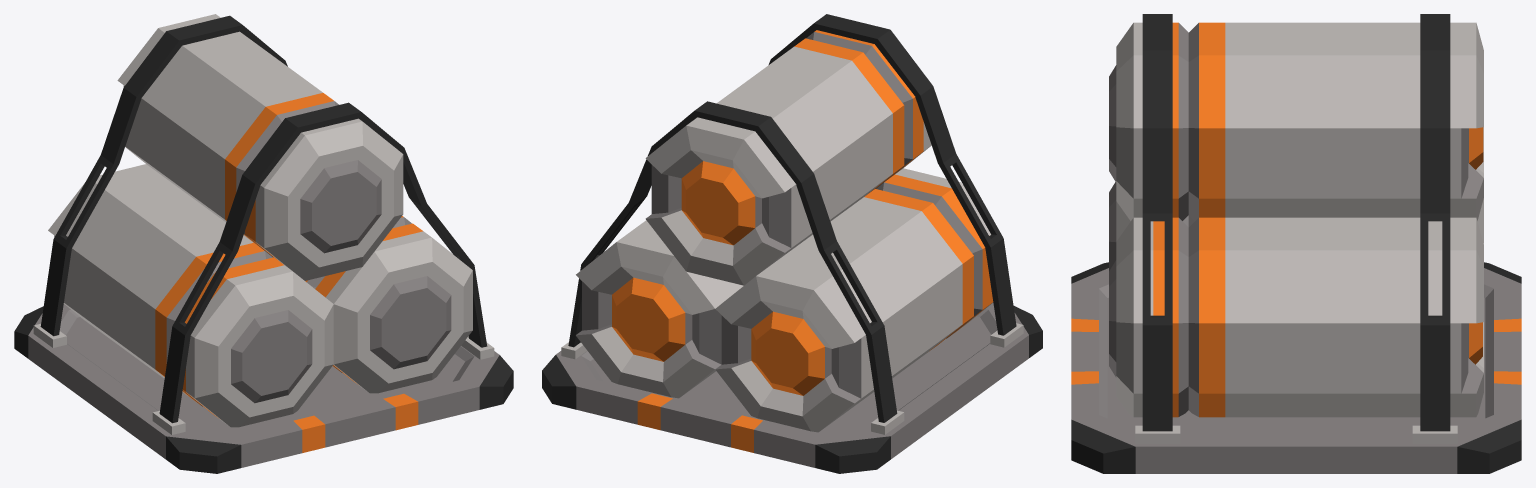
File: scifi_scifi-vials-three-pack.fbx
3 views of the same model, side by side, from view 1: azimuth 30°, elevation 25°; view 2: azimuth 150°, elevation 25°; view 3: azimuth 270°, elevation 25° (orthographic). The views are drawn at different scales.
Visible parts, largest first — view 1: scifi_scifi_vials_three_pack; view 2: scifi_scifi_vials_three_pack; view 3: scifi_scifi_vials_three_pack.
Boxes of the visible parts, x1,y1,x2,y2 form: scifi_scifi_vials_three_pack: (14,14,513,473); scifi_scifi_vials_three_pack: (542,14,1042,473); scifi_scifi_vials_three_pack: (1071,14,1521,473).
Bounding box in the file's own units: 200 × 170 × 200.
